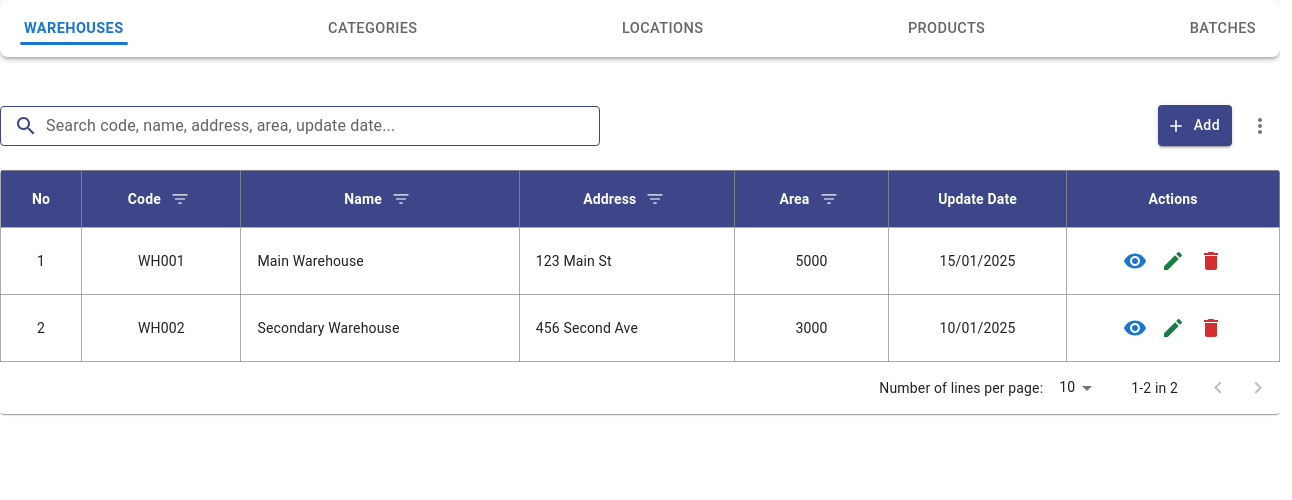
Test: Warehouse Page - Integration Tests › Happy Path - Menu Navigation › switches to categories menu and displays categories
Expected: the text "Main Warehouse" is shown, [241,227,519,294]
Click the button "Categories": click(373, 29) [312,8,433,49]
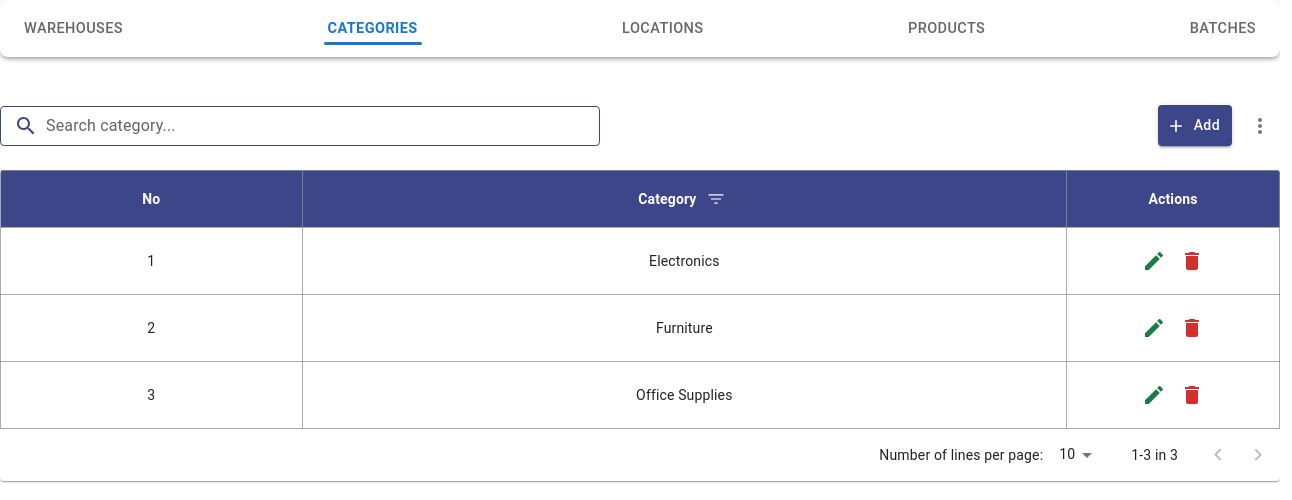
Now the text "Electronics" is shown, box [302,227,1066,294]
Now the text "Furniture" is shown, box [302,294,1066,361]
